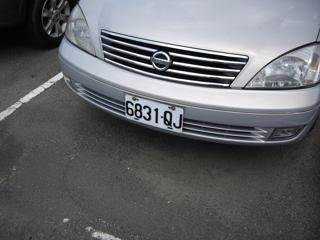plate: (123, 93, 186, 133)
